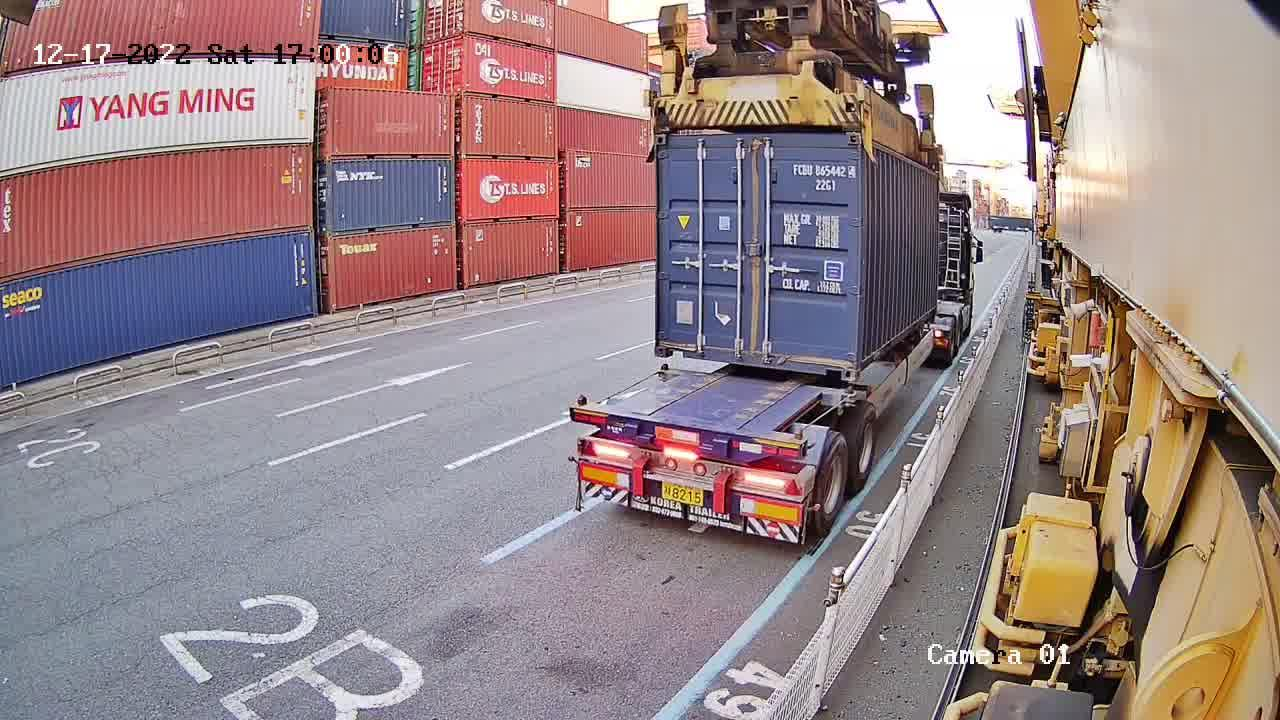Chassis: (571, 406, 804, 469), (660, 365, 862, 412)
Container: (652, 329, 861, 384)
Hole_L: (654, 328, 683, 360)
Hole_R: (831, 351, 858, 384)
Tire: (814, 435, 849, 536), (849, 406, 879, 493)
